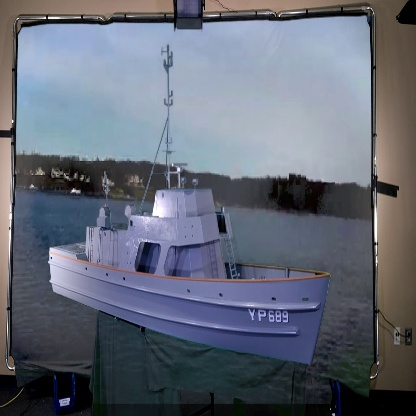YP689: (46, 50, 334, 371)
